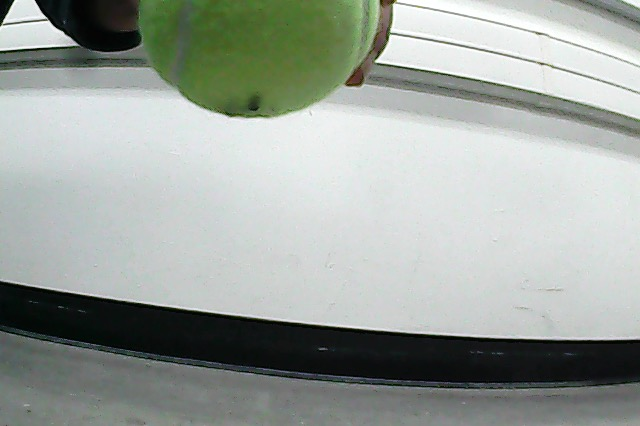ball: (140, 1, 379, 119)
